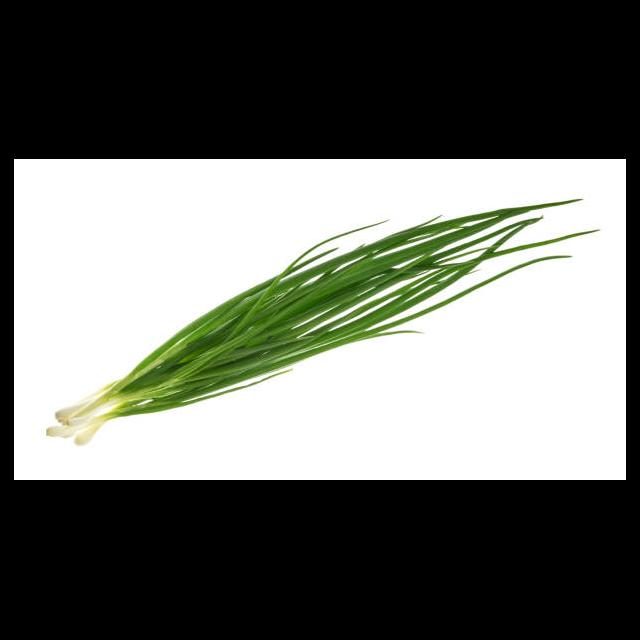green_onion: (58, 237, 573, 431)
